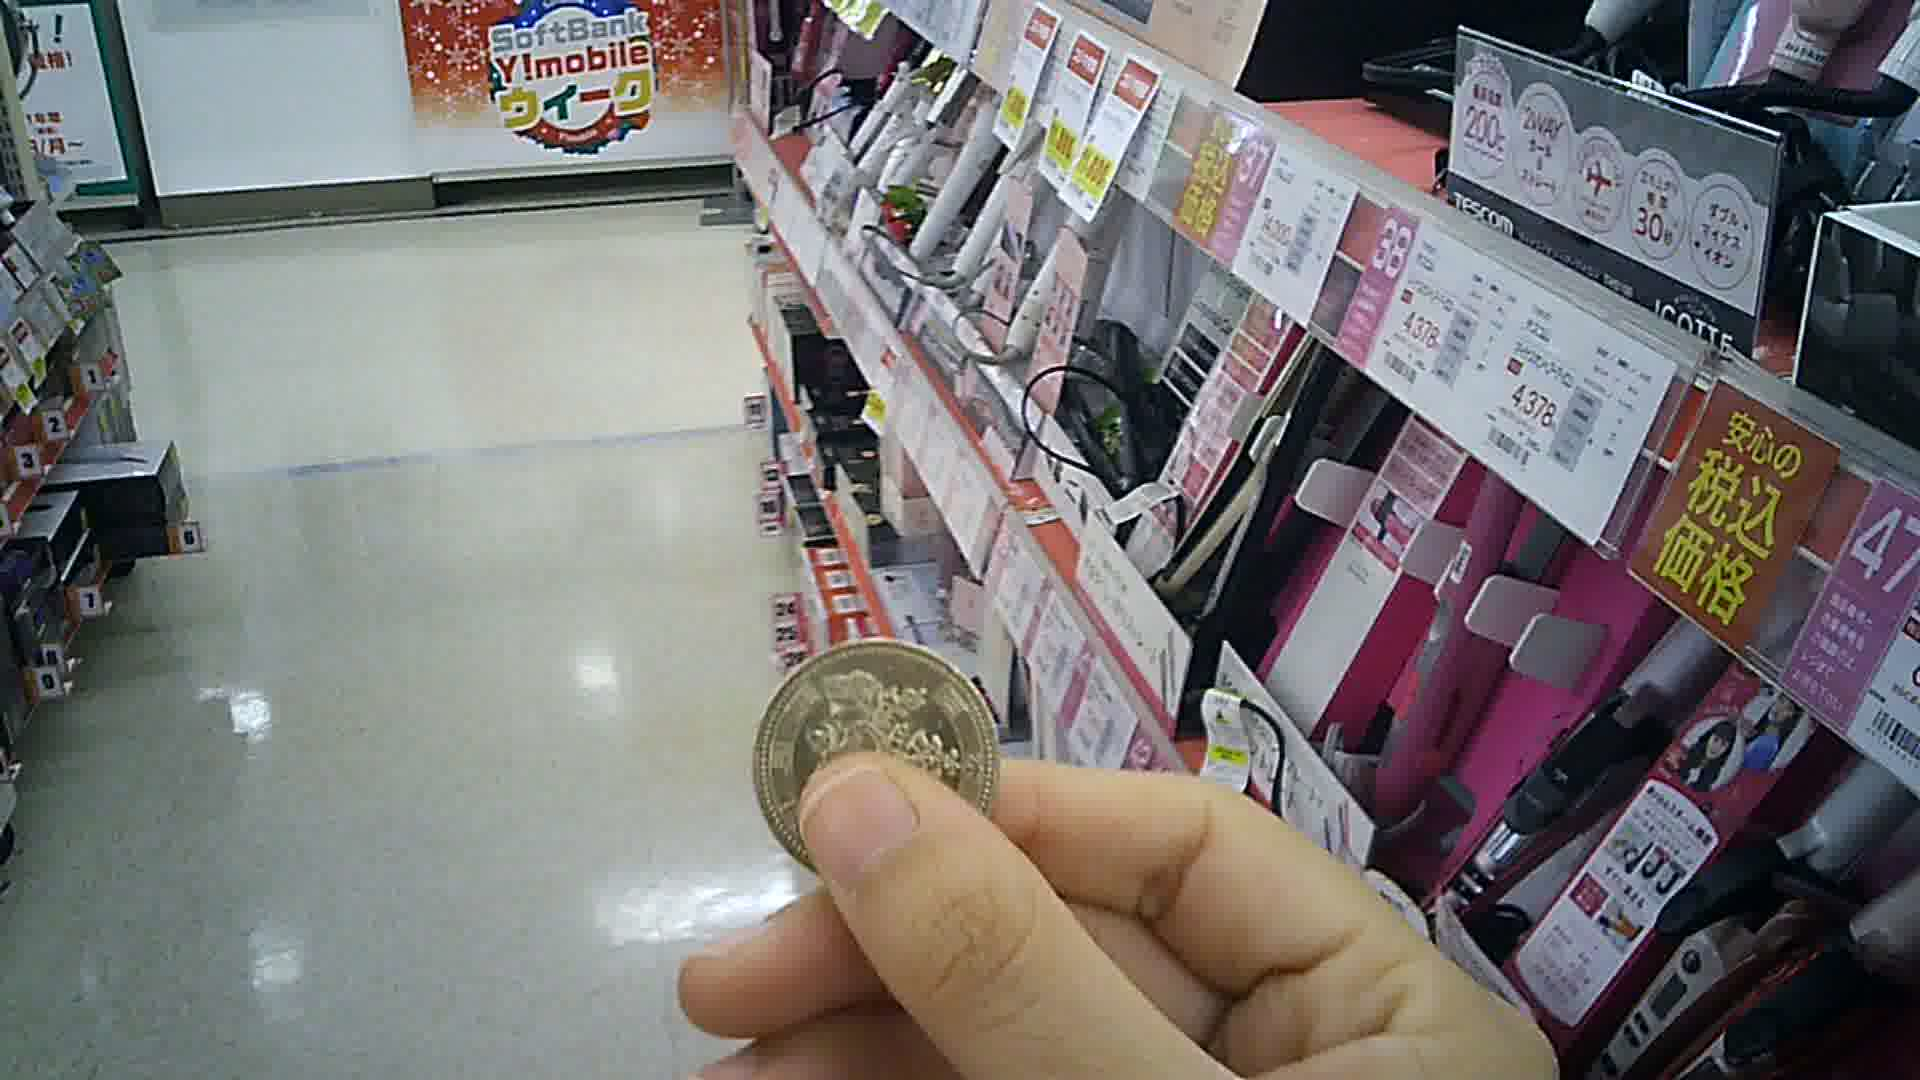500 Yen: (742, 629, 1000, 878)
